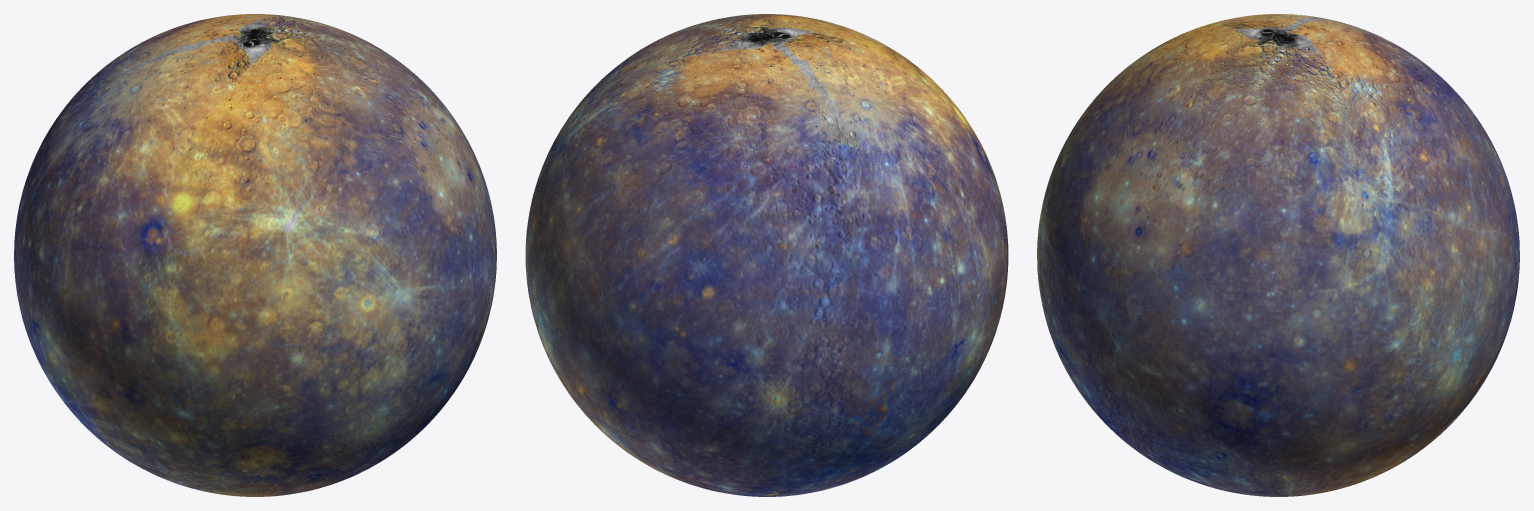
Rendered from Mercury.FBX.
3 views of the same model, side by side, from view 1: azimuth 30°, elevation 25°; view 2: azimuth 150°, elevation 25°; view 3: azimuth 270°, elevation 25° (orthographic).
Visible parts, largest first — view 1: Mercury; view 2: Mercury; view 3: Mercury.
Part boxes in pixels (x1,y1,x2,y2): Mercury: (14,14,496,496); Mercury: (525,14,1008,496); Mercury: (1037,14,1519,496).
Bounding box in the file's own units: 122 × 122 × 122.
Materials: 1 (1 with a texture image).
